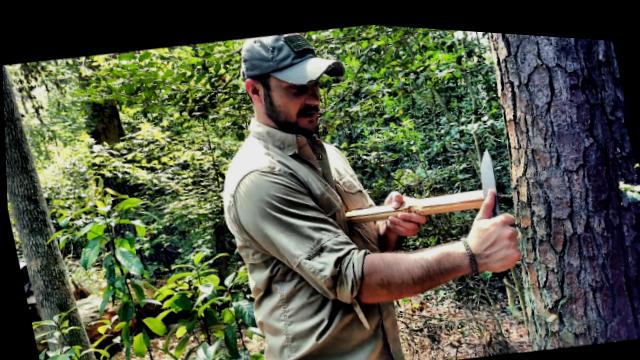knife: (453, 130, 531, 273)
